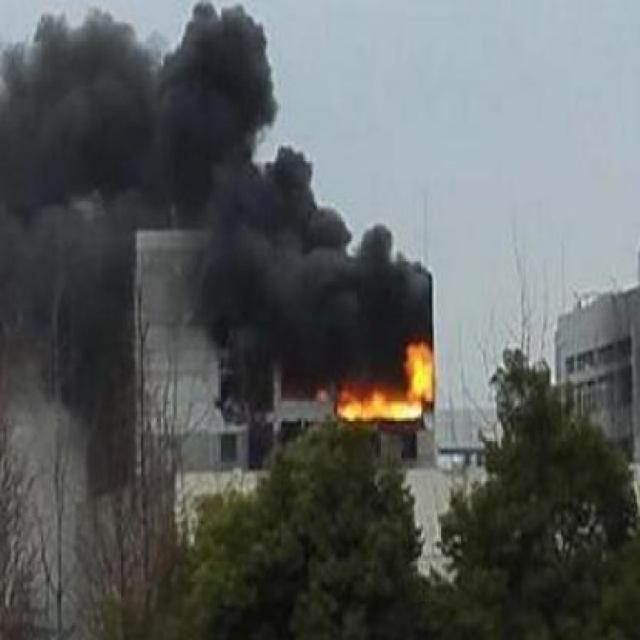Fire: (338, 334, 440, 426)
Smoke: (14, 18, 324, 236), (202, 237, 436, 324)
